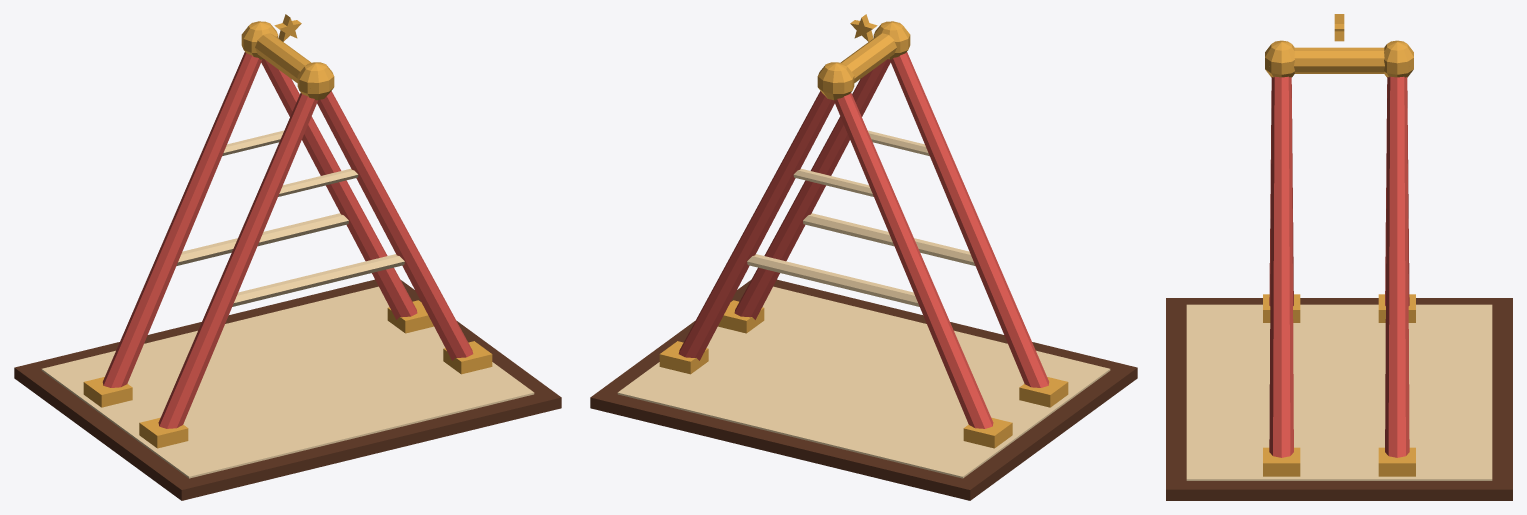
File: ParkParkFerrisBase.obj
3 renders of one model, left to right at view 1: azimuth 30°, elevation 25°; view 2: azimuth 150°, elevation 25°; view 3: azimuth 270°, elevation 25°, orthographic. The views are drawn at different scales.
Visible parts, largest first — view 1: ParkParkFerrisBase; view 2: ParkParkFerrisBase; view 3: ParkParkFerrisBase.
Boxes of the visible parts, left/top/right/bottom form: ParkParkFerrisBase: left=14, top=14, right=561, bottom=500; ParkParkFerrisBase: left=590, top=14, right=1137, bottom=500; ParkParkFerrisBase: left=1166, top=14, right=1512, bottom=500.
Size of the model in its own units: 11 by 10.45 by 8.4.
